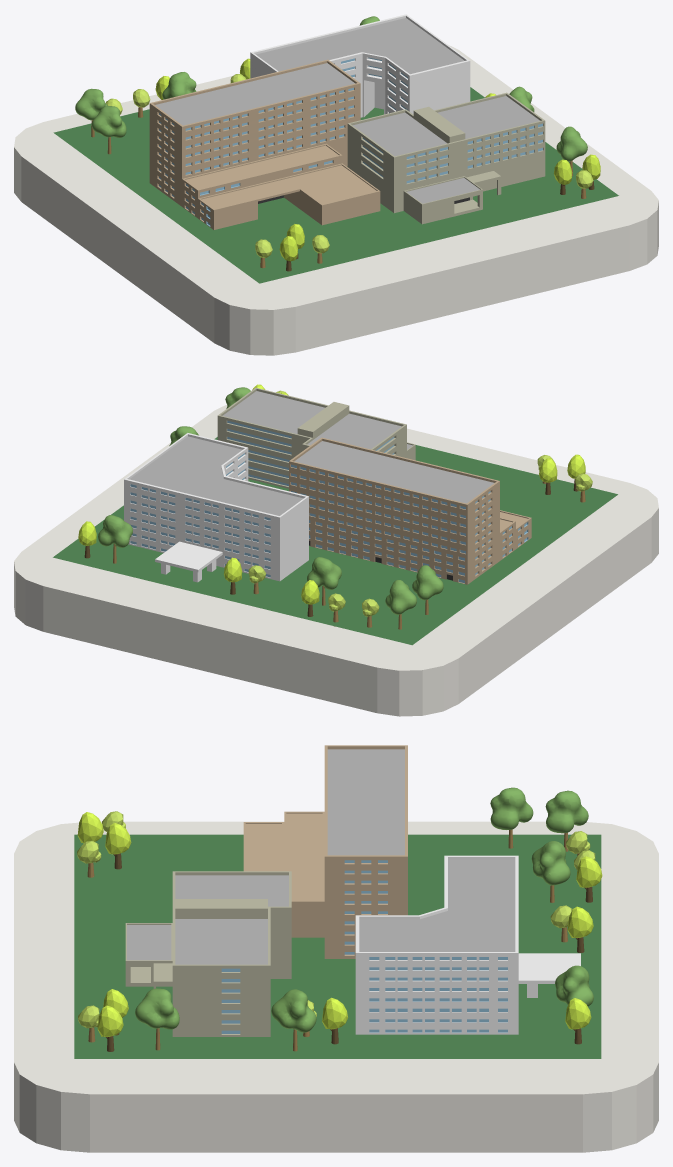
3 renders of one model, top to bottom at view 1: azimuth 30°, elevation 25°; view 2: azimuth 150°, elevation 25°; view 3: azimuth 270°, elevation 25°, orthographic. The views are drawn at different scales.
Visible parts, largest first — view 1: Cube, 理學院2, 底板.001, 理學院3, 理學院1, Cylinder.672, Cylinder.678, Cylinder.675, Cylinder.669; view 2: Cube, 理學院2, 底板.001, 理學院1, 理學院3, Cylinder.660, Cylinder.669, Cylinder.672, Cylinder.675; view 3: Cube, 底板.001, 理學院1, 理學院2, 理學院3, Cylinder.663, Cylinder.672, Cylinder.678, Cylinder.675, Cylinder.669, Cylinder.660, Cylinder.1162 (+6 smaller).
Boxes of the visible parts, x1=… form: Cube: x1=14, y1=45, x2=658, y2=355; 理學院2: x1=149, y1=59, x2=380, y2=229; 底板.001: x1=53, y1=87, x2=618, y2=283; 理學院3: x1=347, y1=92, x2=545, y2=224; 理學院1: x1=250, y1=14, x2=470, y2=117; Cylinder.672: x1=91, y1=106, x2=126, y2=154; Cylinder.678: x1=556, y1=126, x2=587, y2=176; Cylinder.675: x1=75, y1=88, x2=107, y2=137; Cylinder.669: x1=162, y1=72, x2=196, y2=99; Cube: x1=14, y1=404, x2=658, y2=716; 理學院2: x1=289, y1=437, x2=531, y2=584; 底板.001: x1=53, y1=437, x2=617, y2=645; 理學院1: x1=124, y1=433, x2=308, y2=582; 理學院3: x1=217, y1=387, x2=415, y2=488; Cylinder.660: x1=98, y1=515, x2=132, y2=563; Cylinder.669: x1=307, y1=557, x2=341, y2=605; Cylinder.672: x1=412, y1=565, x2=443, y2=614; Cylinder.675: x1=385, y1=580, x2=416, y2=629; Cube: x1=14, y1=821, x2=658, y2=1152; 底板.001: x1=74, y1=834, x2=601, y2=1058; 理學院1: x1=355, y1=855, x2=580, y2=1034; 理學院2: x1=243, y1=745, x2=407, y2=958; 理學院3: x1=125, y1=871, x2=291, y2=1036; Cylinder.663: x1=271, y1=989, x2=316, y2=1051; Cylinder.672: x1=490, y1=787, x2=533, y2=848; Cylinder.678: x1=135, y1=988, x2=179, y2=1050; Cylinder.675: x1=545, y1=790, x2=588, y2=851; Cylinder.669: x1=531, y1=841, x2=570, y2=902; Cylinder.660: x1=555, y1=965, x2=593, y2=1006; Cylinder.1162: x1=565, y1=998, x2=591, y2=1044.
Size of the model in its own units: 17 by 5 by 17.
